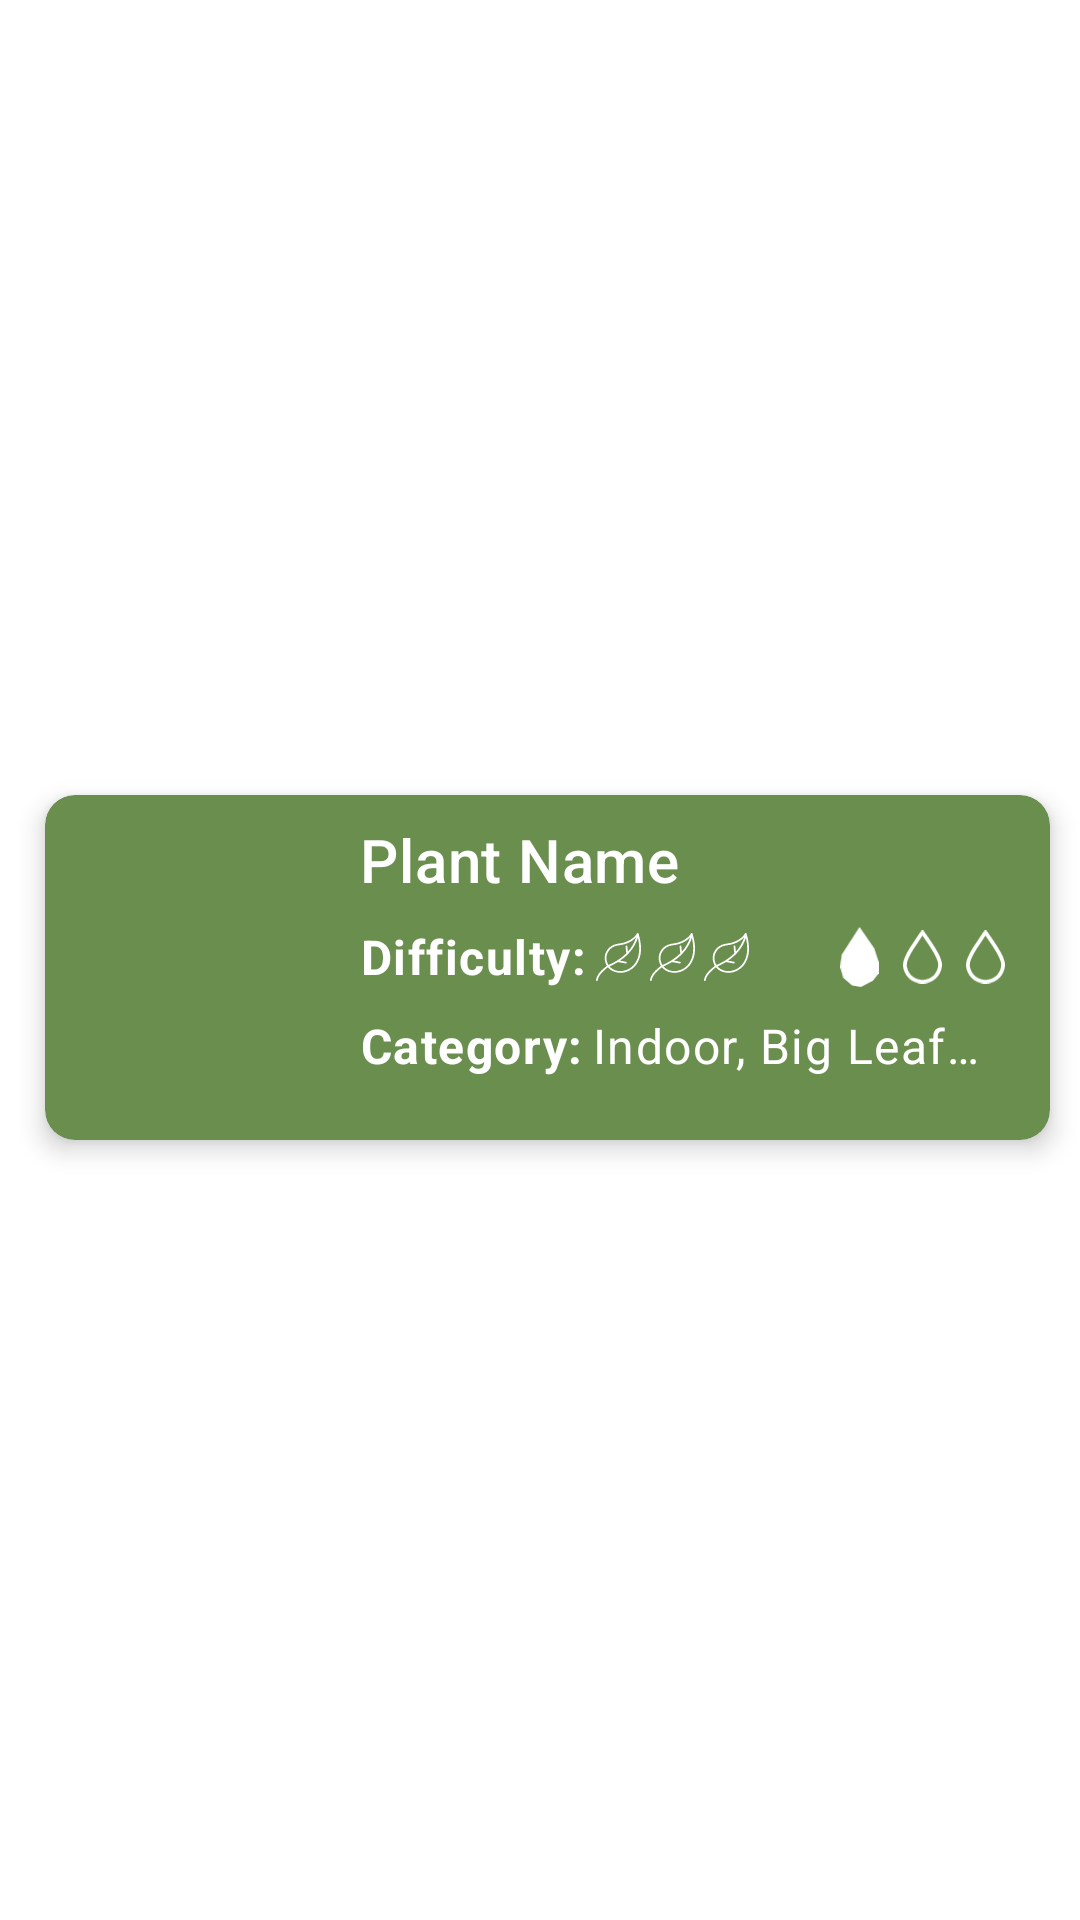

Screen size 1080 x 1920. Icon name, then its center in pixels as (x=x, y=y):
waterdropplett empty: (x=922, y=957), (x=985, y=957)
waterdropplett full: (x=859, y=957)
